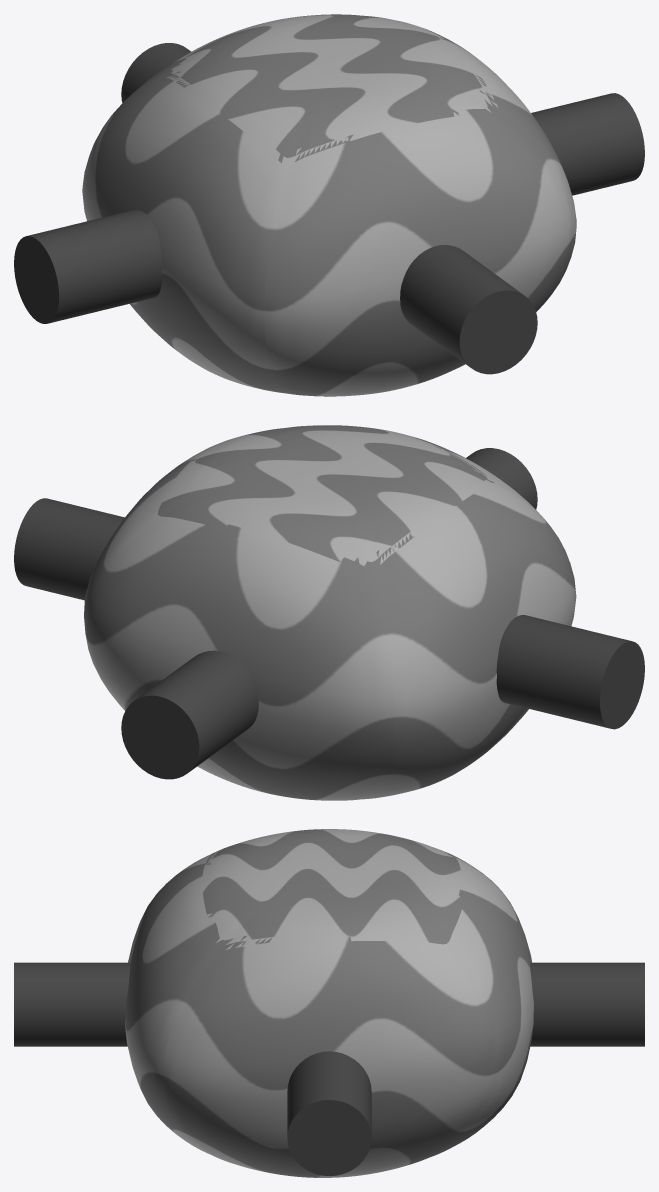
The picture shows the model from 3 angles, top to bottom: view 1: azimuth 30°, elevation 25°; view 2: azimuth 150°, elevation 25°; view 3: azimuth 270°, elevation 25°; orthographic projection. The views are drawn at different scales.
Parts seen in each view (by area): view 1: Body(Compressed_Oblong)+Colour(7000000_5000000)+Pattern_ba03, Arm002, Arm004, Arm001, Arm003; view 2: Body(Compressed_Oblong)+Colour(7000000_5000000)+Pattern_ba03, Arm002, Arm003, Arm001, Arm004; view 3: Body(Compressed_Oblong)+Colour(7000000_5000000)+Pattern_ba03, Arm004, Arm003, Arm001.
Part boxes in pixels (box(x1,y1,x2,y2)): Body(Compressed_Oblong)+Colour(7000000_5000000)+Pattern_ba03: box(82, 14, 576, 396); Arm002: box(14, 210, 162, 323); Arm004: box(400, 245, 537, 374); Arm001: box(531, 93, 644, 195); Arm003: box(121, 43, 191, 102); Body(Compressed_Oblong)+Colour(7000000_5000000)+Pattern_ba03: box(84, 425, 576, 800); Arm002: box(496, 615, 644, 729); Arm003: box(121, 650, 258, 779); Arm001: box(14, 498, 124, 600); Arm004: box(466, 448, 537, 509); Body(Compressed_Oblong)+Colour(7000000_5000000)+Pattern_ba03: box(125, 829, 533, 1177); Arm004: box(14, 962, 130, 1046); Arm003: box(530, 962, 644, 1046); Arm001: box(287, 1051, 371, 1175).
Bounding box in the file's own units: 1.52 × 0.7257 × 1.52.
2 materials, 2 textured.
